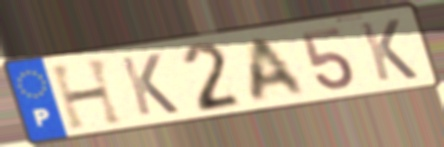2: (179, 41, 244, 115)
5: (296, 25, 356, 92)
A: (249, 34, 311, 105)
H: (46, 55, 128, 133)
K: (356, 17, 422, 84), (117, 51, 183, 118)
